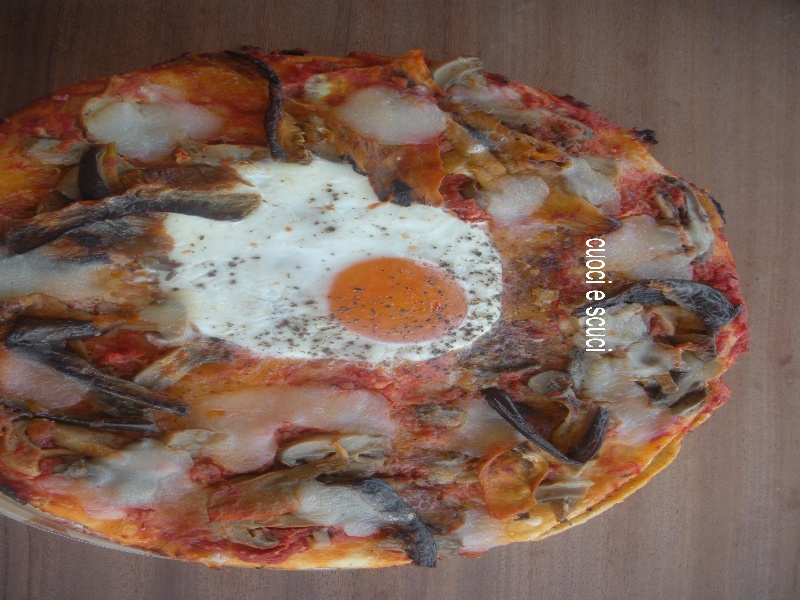oeuf: (287, 240, 495, 349)
